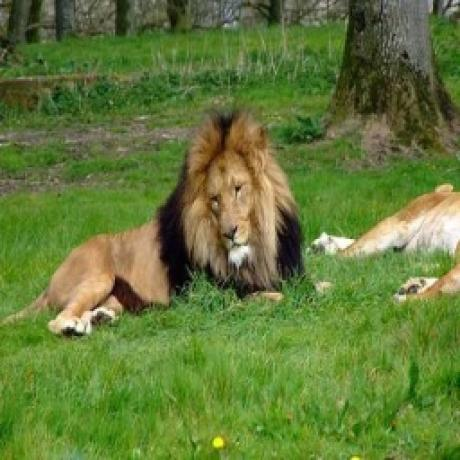Lion: (40, 107, 306, 333)
